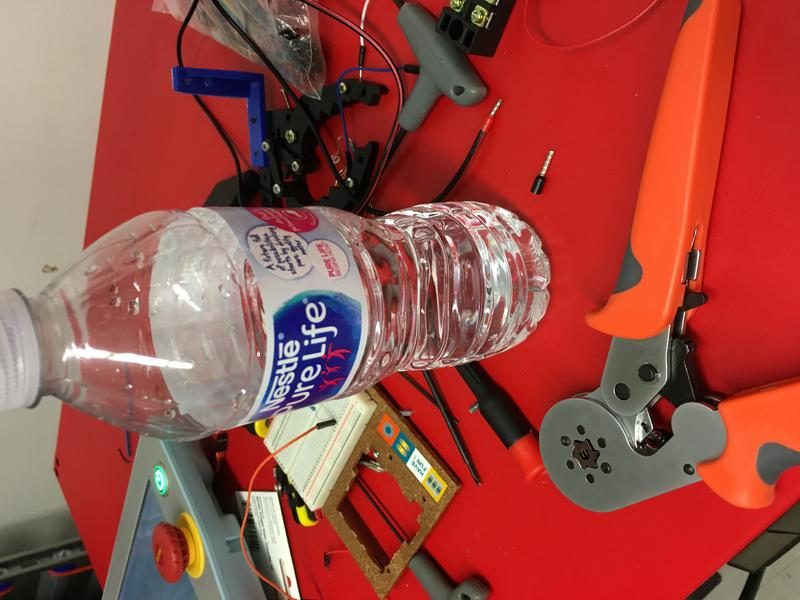bottle: (1, 202, 551, 447)
